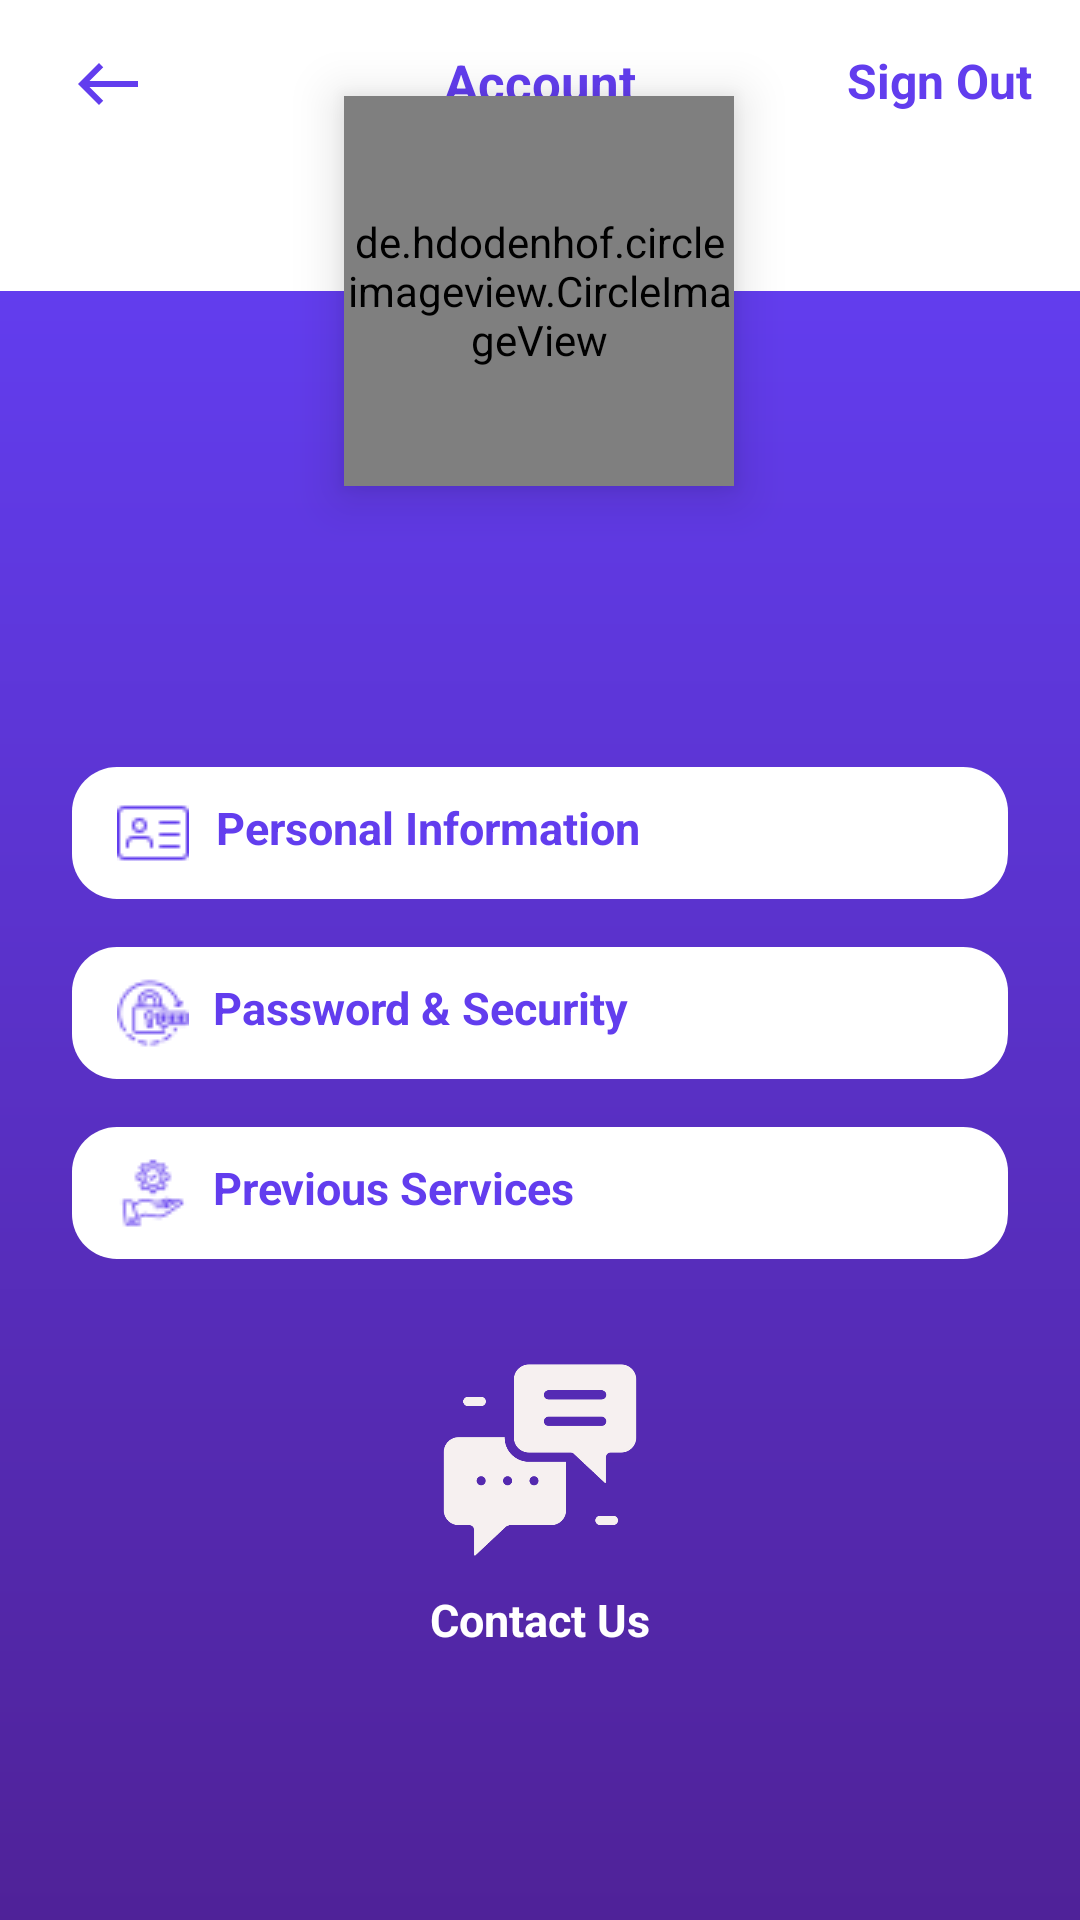

Screen size 1080px×1920px. Icon name, then its center in pixels as (x=x, y=y):
west: (x=108, y=84)
